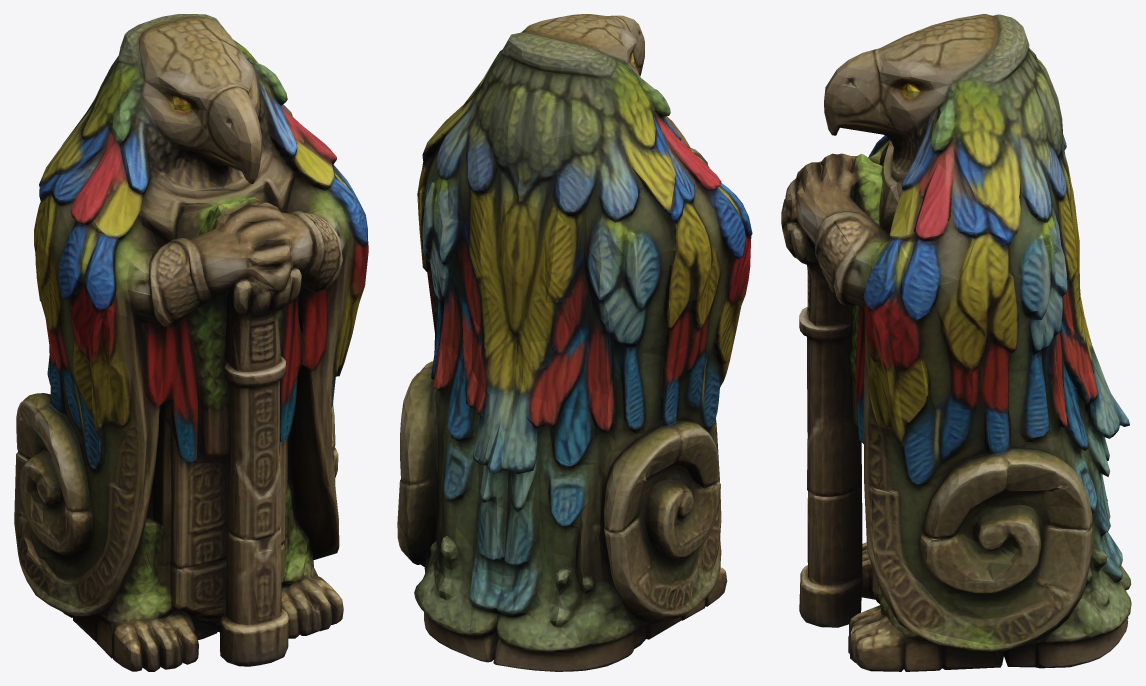
File: plumedWatcher.glb
3 renders of one model, left to right at view 1: azimuth 30°, elevation 25°; view 2: azimuth 150°, elevation 25°; view 3: azimuth 270°, elevation 25°, orthographic. The views are drawn at different scales.
Visible parts, largest first — view 1: world; view 2: world; view 3: world.
Part boxes in pixels (left/top/right/bottom): world: left=14, top=14, right=368, bottom=671; world: left=397, top=14, right=752, bottom=671; world: left=781, top=14, right=1131, bottom=671.
Bounding box in the file's own units: 0.532 × 0.9996 × 0.5322.
Materials: 1 (1 with a texture image).
